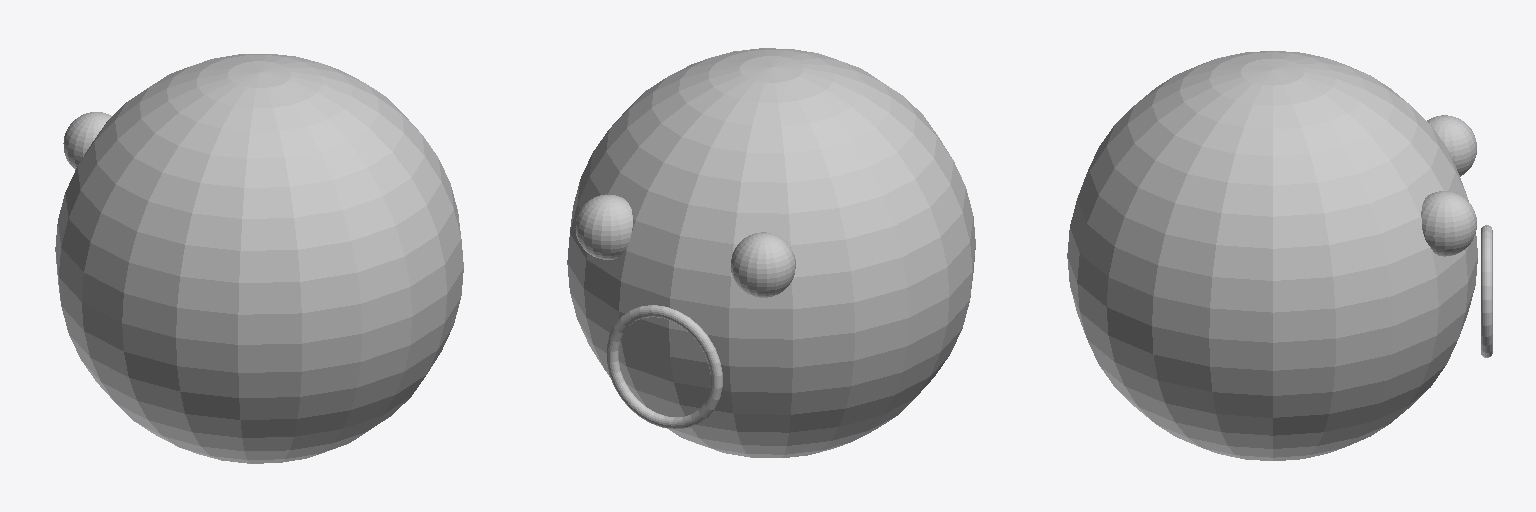
File: aaaa.obj
The picture shows the model from 3 angles: view 1: azimuth 30°, elevation 25°; view 2: azimuth 150°, elevation 25°; view 3: azimuth 270°, elevation 25°; orthographic projection.
Visible parts, largest first — view 1: pSphere1, pSphere2; view 2: pSphere1, pSphere2, pTorus1; view 3: pSphere1, pSphere2, pTorus1.
Part boxes in pixels (bbox=[...]): pSphere1: bbox=[55, 54, 463, 463]; pSphere2: bbox=[63, 112, 111, 169]; pSphere1: bbox=[567, 48, 975, 457]; pSphere2: bbox=[575, 194, 795, 297]; pTorus1: bbox=[607, 305, 722, 429]; pSphere1: bbox=[1067, 51, 1477, 460]; pSphere2: bbox=[1421, 115, 1476, 256]; pTorus1: bbox=[1481, 225, 1492, 357].
Size of the model in its own units: 2 by 2 by 2.07.